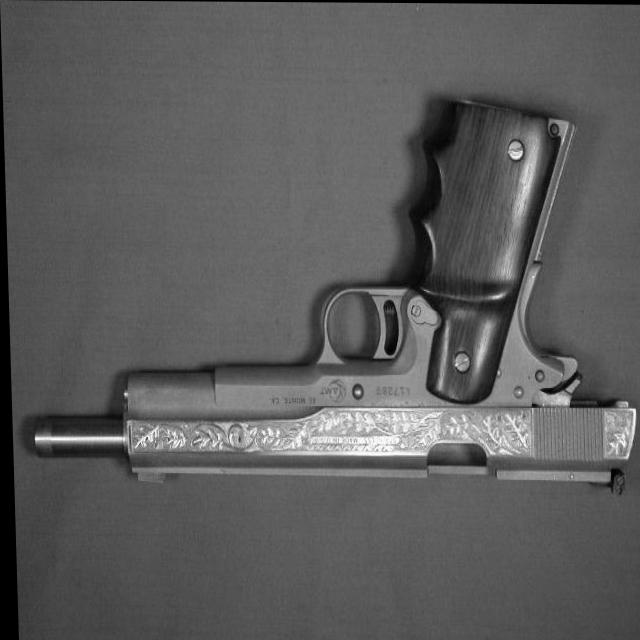handgun: (21, 80, 637, 503)
